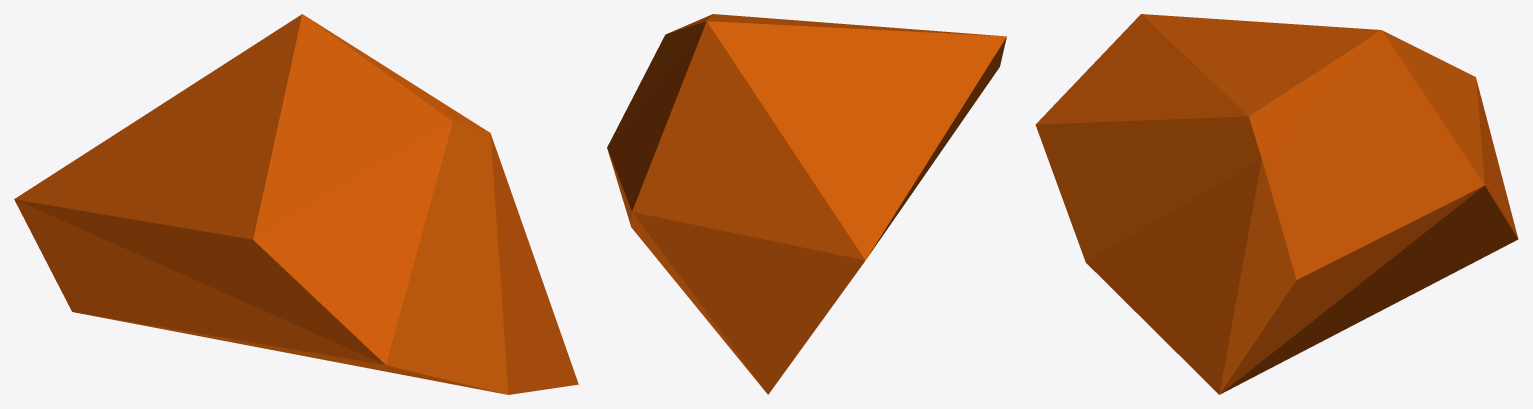
Rendered from ice_b.glb.
3 views of the same model, side by side, from view 1: azimuth 30°, elevation 25°; view 2: azimuth 150°, elevation 25°; view 3: azimuth 270°, elevation 25° (orthographic). The views are drawn at different scales.
Parts seen in each view (by area): view 1: ice_b; view 2: ice_b; view 3: ice_b.
Boxes of the visible parts, bbox=[...] form: ice_b: bbox=[14, 14, 578, 394]; ice_b: bbox=[607, 14, 1006, 394]; ice_b: bbox=[1035, 14, 1518, 394].
Size of the model in its own units: 1.52 by 1.21 by 1.83.
